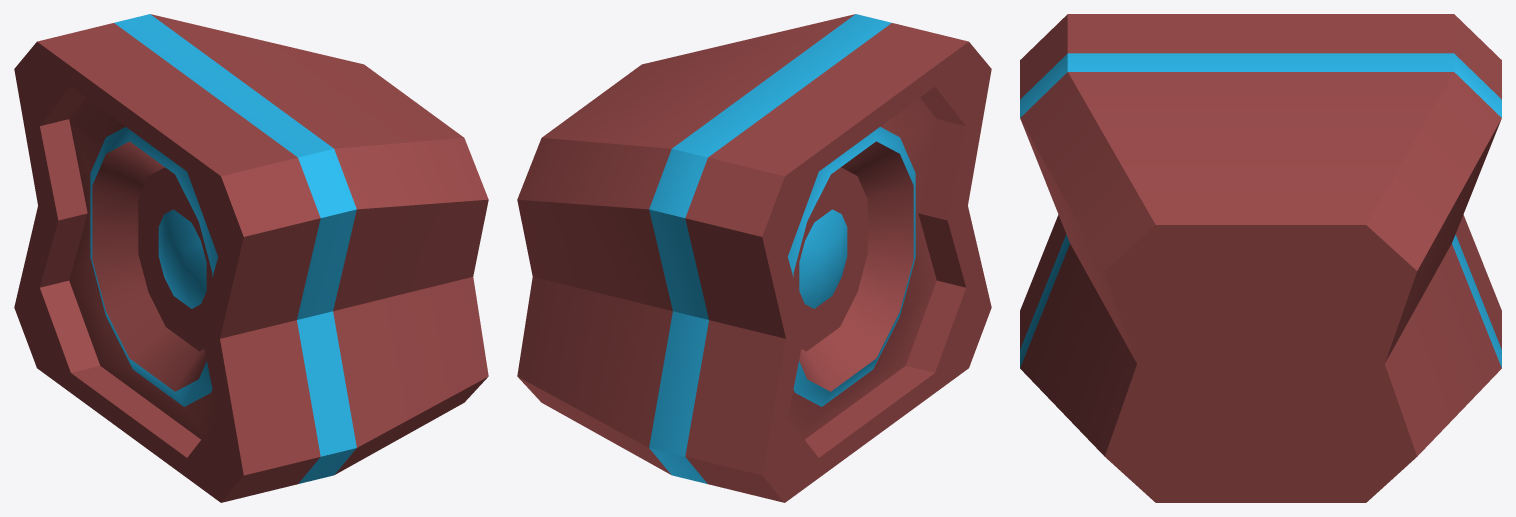
Rendered from SM_Speaker_01.fbx.
The picture shows the model from 3 angles, left to right: view 1: azimuth 30°, elevation 25°; view 2: azimuth 150°, elevation 25°; view 3: azimuth 270°, elevation 25°; orthographic projection. The views are drawn at different scales.
Parts seen in each view (by area): view 1: SM_Speaker_01; view 2: SM_Speaker_01; view 3: SM_Speaker_01.
Part boxes in pixels (<box>): SM_Speaker_01: <box>14,14,488,502</box>; SM_Speaker_01: <box>517,14,991,502</box>; SM_Speaker_01: <box>1020,14,1501,502</box>.
Size of the model in its own units: 185 by 202 by 258.
